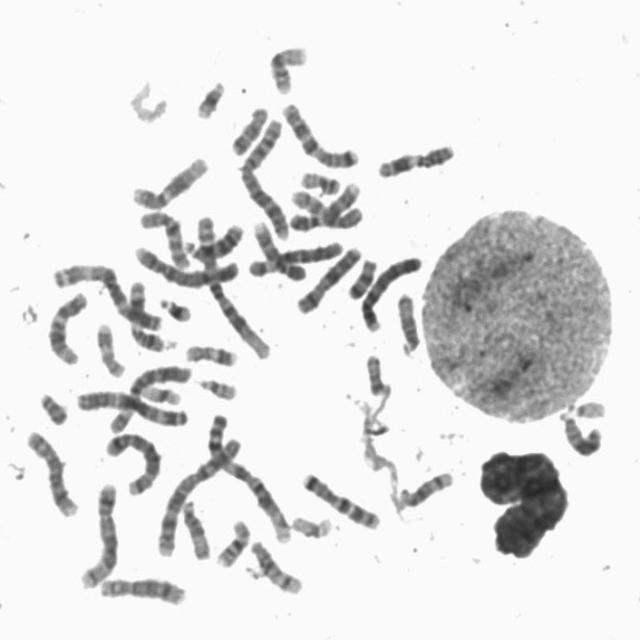A1: (188, 211, 274, 361), (200, 406, 293, 544)
A2: (150, 431, 244, 558), (234, 109, 292, 242)
A3: (45, 256, 165, 331), (70, 383, 190, 428)
B4: (356, 248, 424, 334), (129, 239, 243, 290)
B5: (74, 476, 120, 590), (99, 425, 164, 497)
C10: (135, 203, 193, 271), (288, 192, 366, 229)
C11: (121, 274, 168, 354), (371, 137, 457, 179)
C12: (126, 150, 211, 211), (42, 286, 89, 366)
C6: (103, 358, 193, 437), (242, 234, 345, 279)
C7: (276, 96, 362, 170), (296, 466, 382, 531)
C8: (20, 423, 80, 519), (94, 571, 189, 607)
C9: (248, 215, 308, 282), (286, 180, 362, 232)
D13: (180, 219, 246, 261), (556, 406, 604, 459)
D14: (244, 534, 304, 596), (392, 464, 456, 511)
D15: (177, 493, 212, 562), (392, 287, 422, 358)
E16: (264, 40, 310, 96), (210, 512, 252, 568)
E17: (91, 316, 127, 379), (180, 338, 240, 368)
E18: (225, 100, 270, 156), (343, 252, 379, 300)
F19: (286, 508, 334, 541), (137, 378, 183, 407)
F20: (296, 164, 342, 196), (360, 347, 389, 397)
G21: (190, 74, 228, 120), (154, 290, 194, 324)
G22: (192, 371, 240, 402), (571, 394, 609, 420)
X: (292, 240, 363, 315)
Y: (33, 386, 70, 427)
